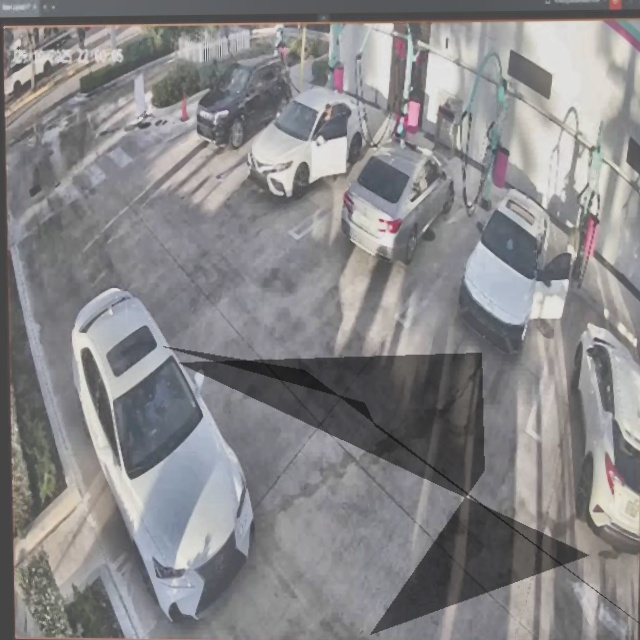Car: (67, 286, 255, 617), (459, 188, 572, 359), (343, 145, 453, 268), (248, 89, 367, 198), (197, 63, 290, 160)
